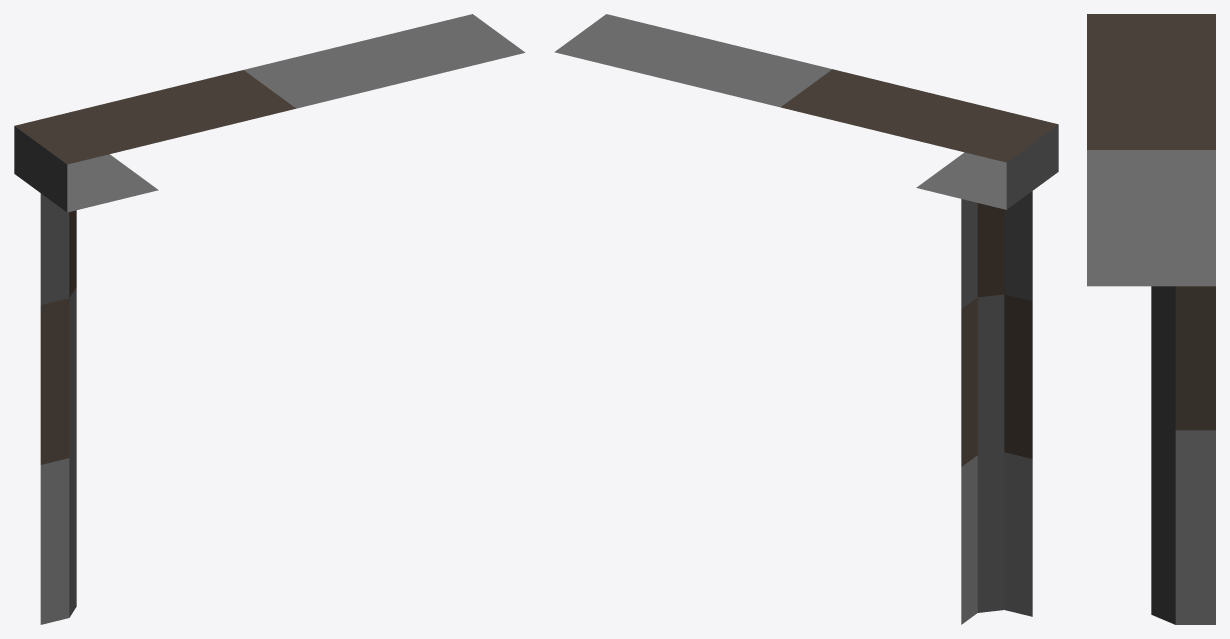
Rendered from Inner_Corner_Wall_Roof_Left.obj.
The picture shows the model from 3 angles, left to right: view 1: azimuth 30°, elevation 25°; view 2: azimuth 150°, elevation 25°; view 3: azimuth 270°, elevation 25°; orthographic projection. The views are drawn at different scales.
Visible parts, largest first — view 1: Inner_Corner_Wall_Roof_Left; view 2: Inner_Corner_Wall_Roof_Left; view 3: Inner_Corner_Wall_Roof_Left.
Boxes of the visible parts, x1,y1,x2,y2 form: Inner_Corner_Wall_Roof_Left: (14,14,525,624); Inner_Corner_Wall_Roof_Left: (554,14,1058,624); Inner_Corner_Wall_Roof_Left: (1087,14,1215,624).
Bounding box in the file's own units: 1 × 1 × 0.2.
